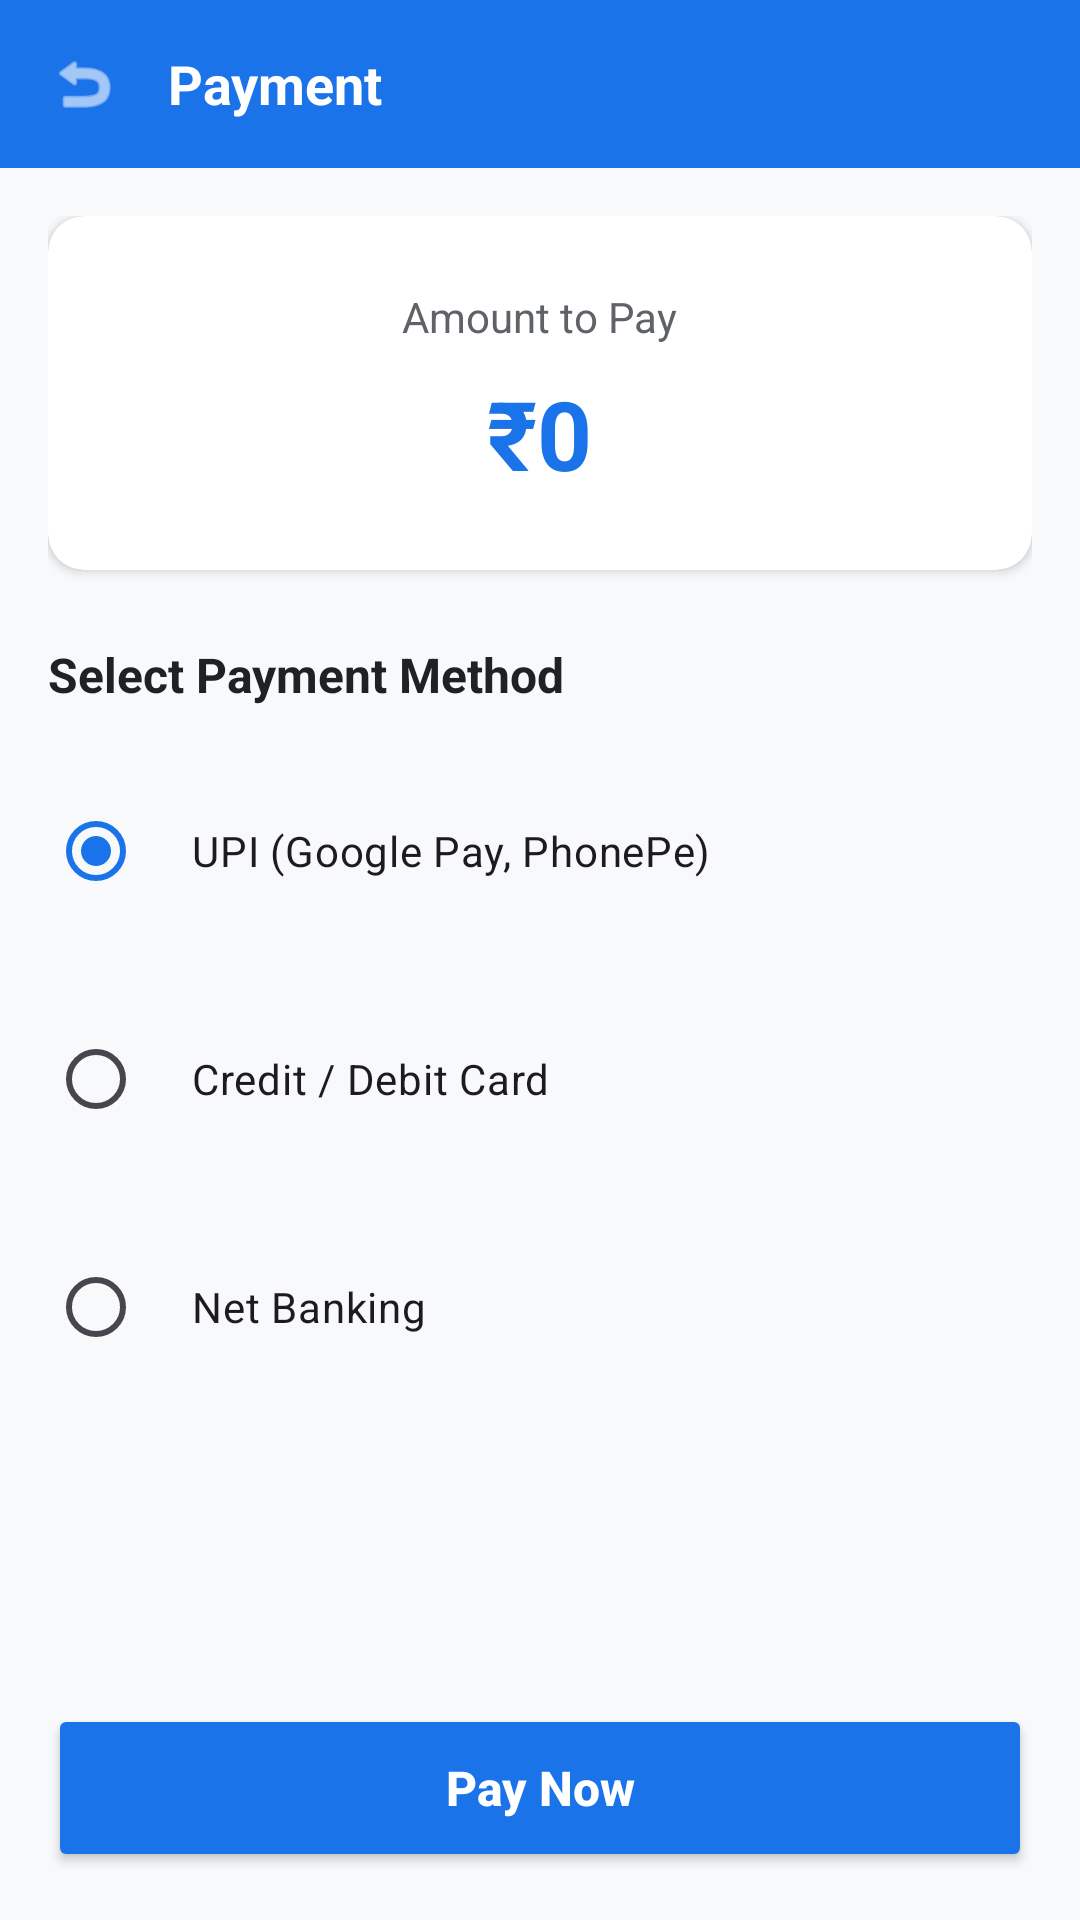

Where to tap for icons on this 1080*1920 app screen, as [x,y]:
Back: [85,84]
